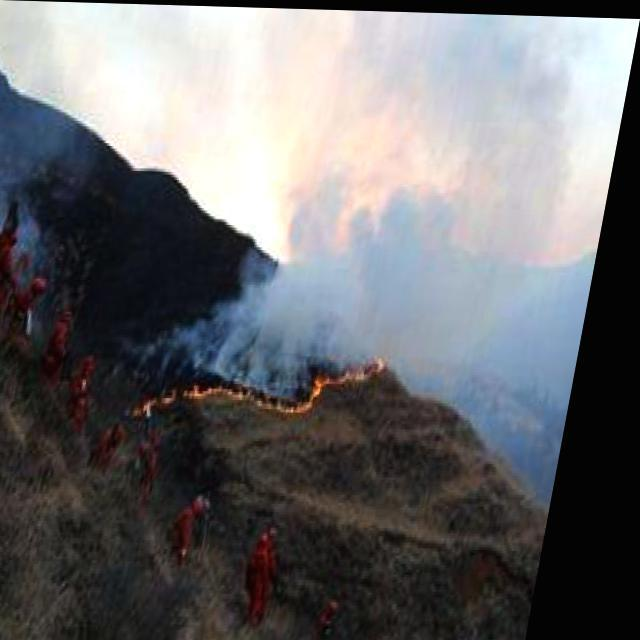Fire: (137, 339, 410, 428)
